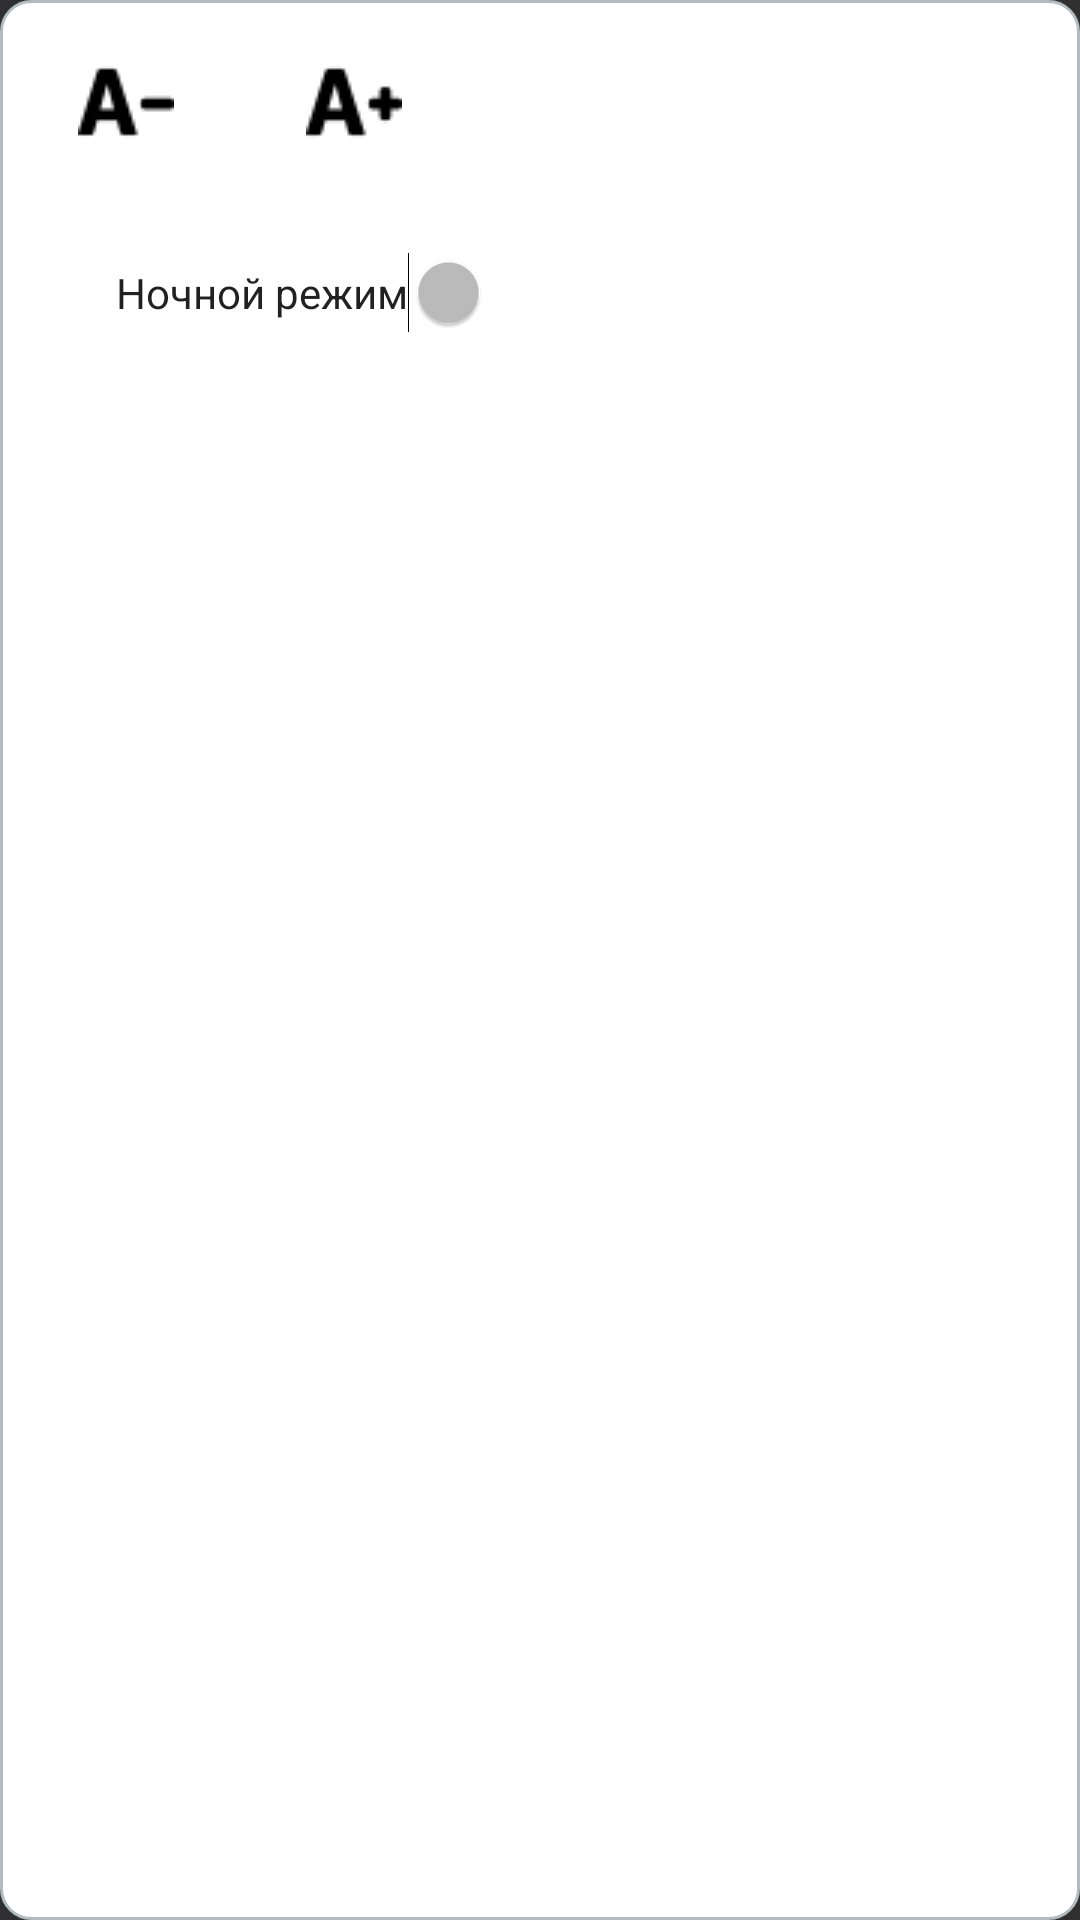

Icons on this 1080px×1920px Android screen, each with its box as (x1, y1, x2, y2):
font: (78, 68, 174, 136), (306, 68, 402, 136)
